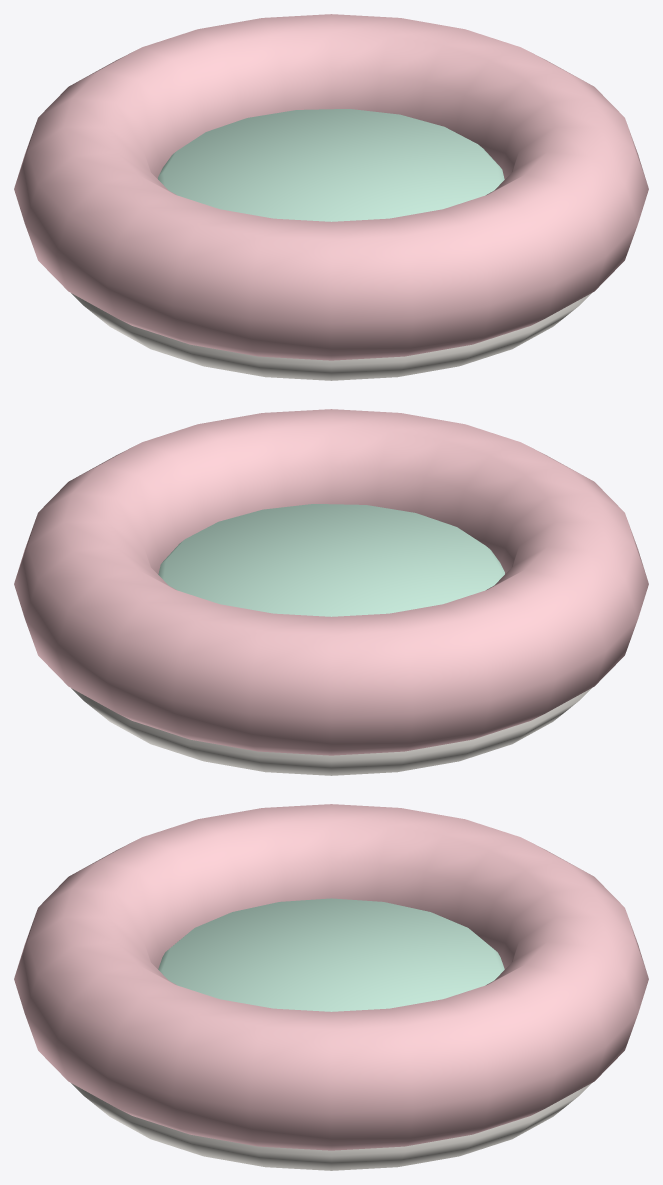
Rendered from cat-bed.glb.
3 views of the same model, one above another, from view 1: azimuth 30°, elevation 25°; view 2: azimuth 150°, elevation 25°; view 3: azimuth 270°, elevation 25° (orthographic).
Visible parts, largest first — view 1: cushion-bed; view 2: cushion-bed; view 3: cushion-bed.
Boxes of the visible parts, x1,y1,x2,y2 form: cushion-bed: (14, 14, 648, 380); cushion-bed: (14, 409, 648, 775); cushion-bed: (14, 804, 648, 1170).
Bounding box in the file's own units: 0.62 × 0.1566 × 0.62.
